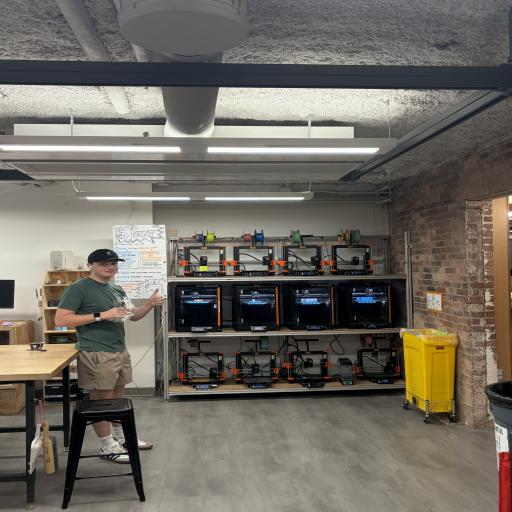Green-Lego: (281, 242, 286, 246)
